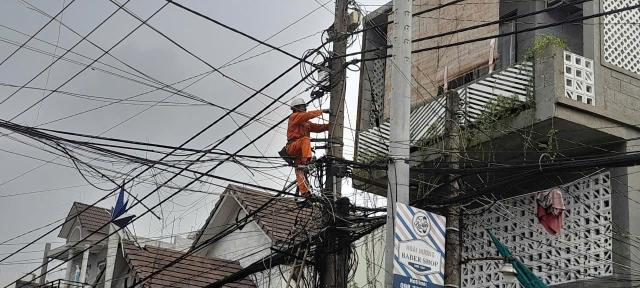gloves: (320, 104, 335, 117)
harness: (285, 137, 320, 145)
helmet: (290, 98, 308, 109)
shoes: (307, 155, 320, 168)
